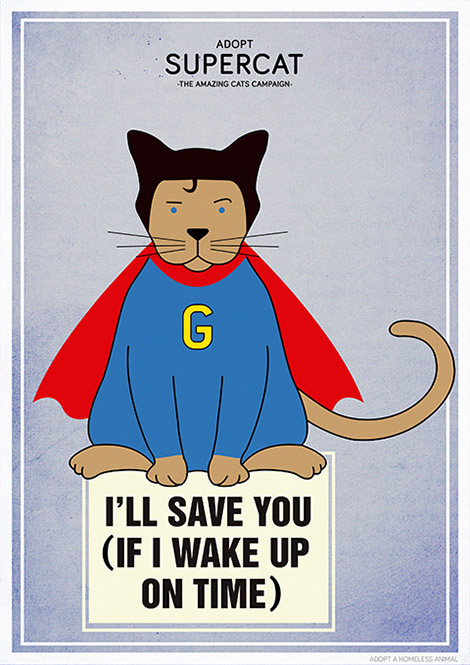cat: (60, 115, 360, 465)
